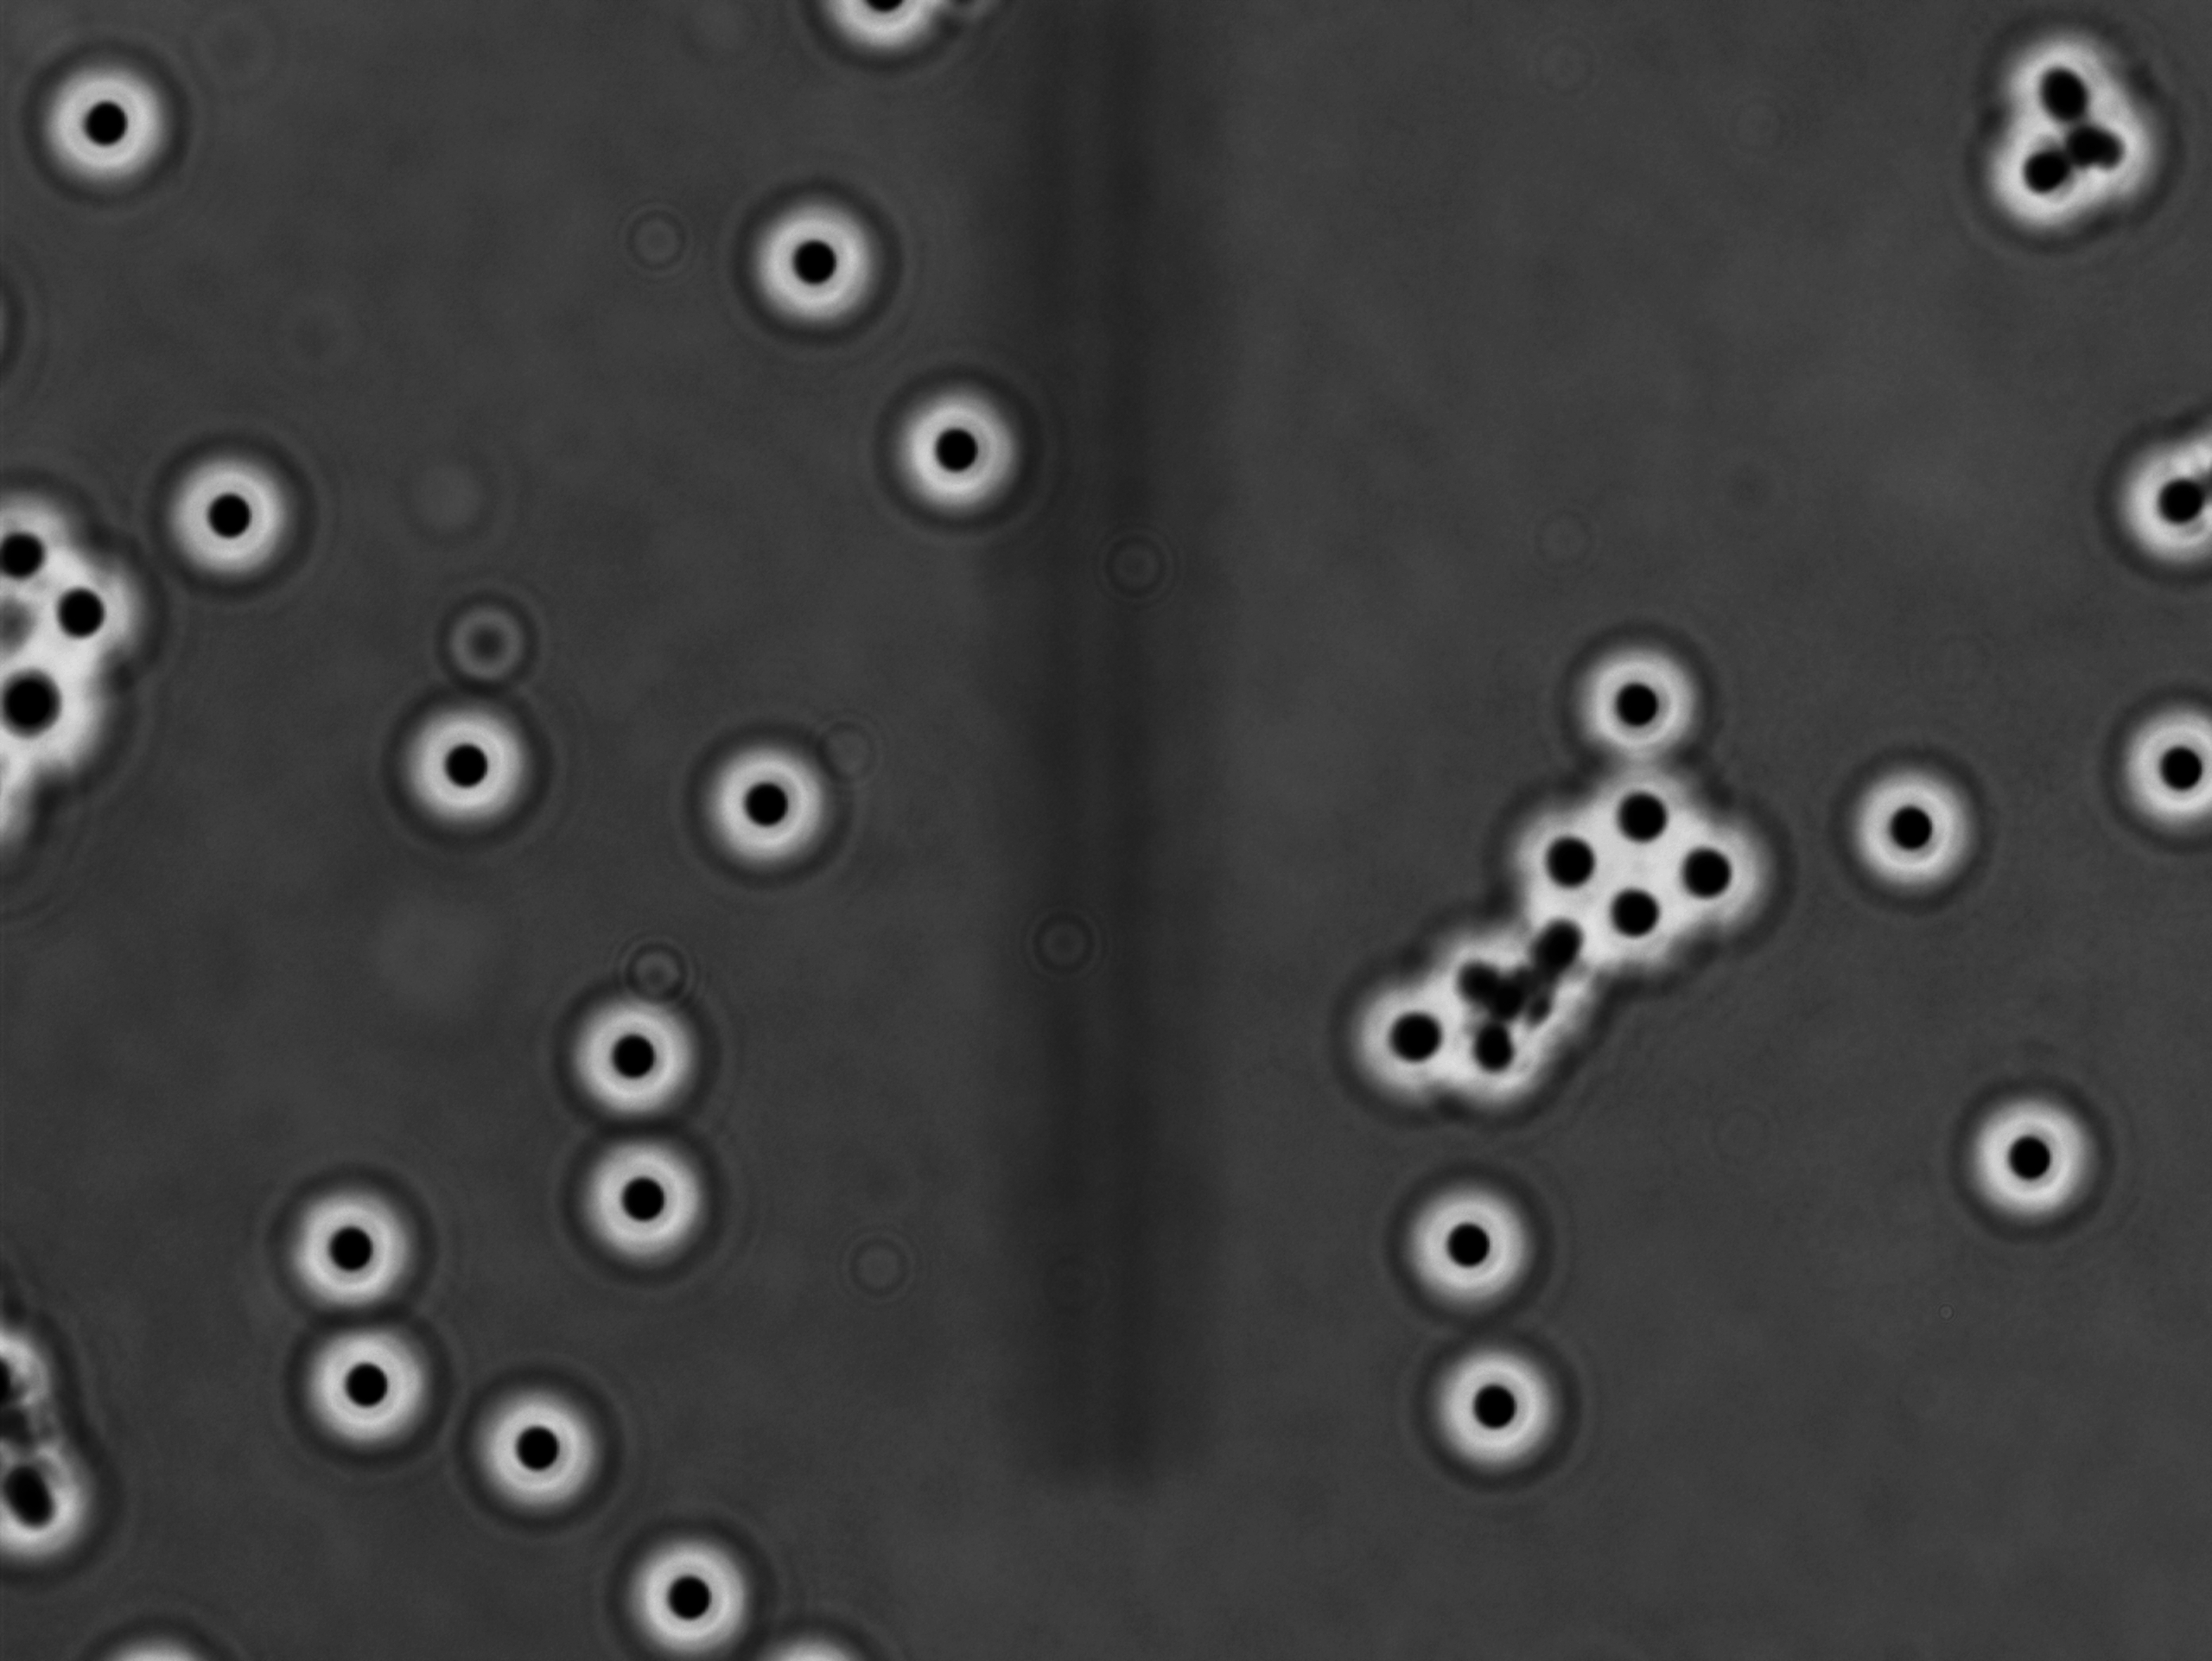depth:-40: (1825, 745, 2017, 925), (1397, 1317, 1591, 1495), (668, 717, 855, 893), (373, 670, 558, 846), (562, 1104, 743, 1281), (445, 1356, 626, 1530), (1943, 1075, 2128, 1246), (260, 1148, 434, 1328), (269, 1296, 455, 1462), (551, 958, 717, 1134), (1542, 605, 1713, 775), (1376, 1153, 1547, 1319), (147, 438, 312, 595), (872, 382, 1033, 541), (19, 45, 180, 202), (738, 187, 898, 340), (1340, 958, 1495, 1113), (598, 1520, 766, 1661), (2095, 684, 2212, 860)
